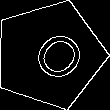O_SW: (15, 21, 84, 88)
